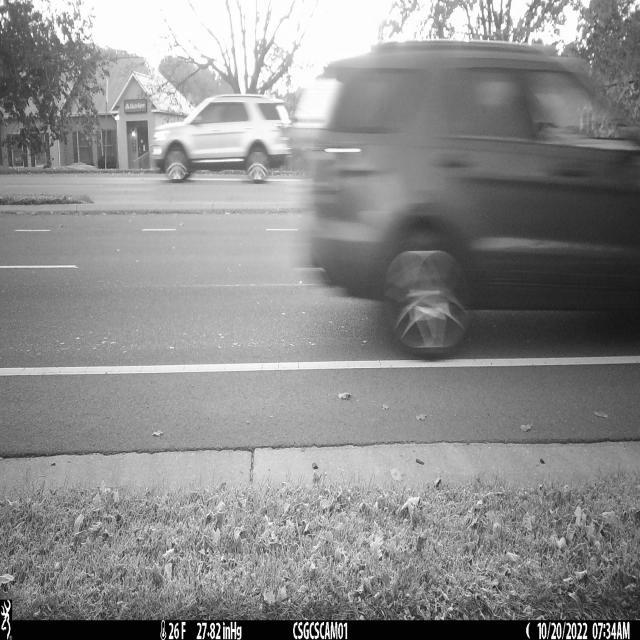SUV: (291, 40, 640, 356), (152, 93, 290, 184)
